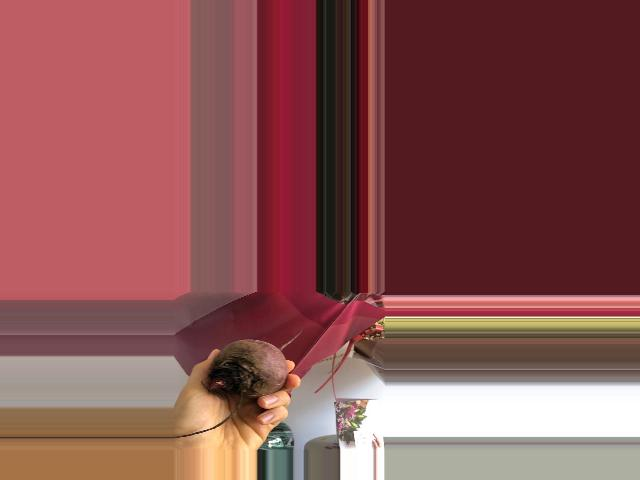beet: (174, 328, 303, 438)
